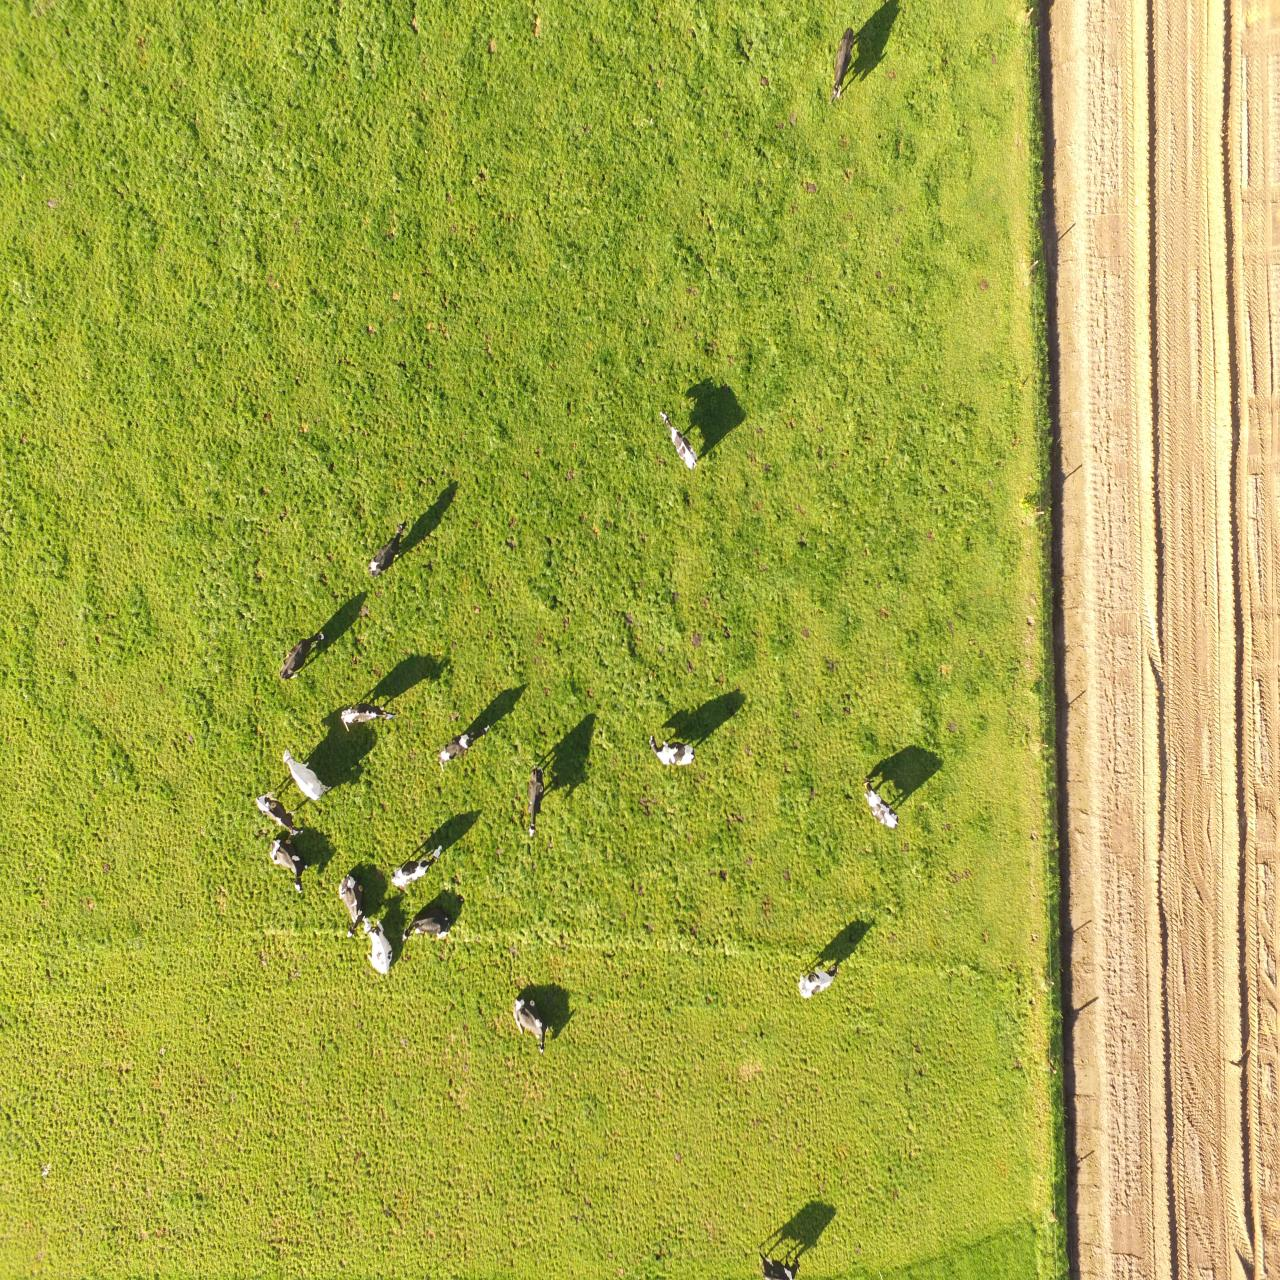cow: (652, 403, 697, 470), (824, 22, 858, 109), (247, 790, 307, 836), (275, 626, 327, 676), (277, 751, 329, 799), (853, 778, 904, 828), (393, 840, 441, 888), (369, 516, 406, 579), (802, 949, 842, 1005), (328, 867, 367, 924), (267, 835, 305, 891), (359, 919, 395, 975), (510, 1001, 551, 1049), (332, 703, 395, 731), (518, 767, 542, 840), (641, 730, 697, 761), (441, 726, 474, 772), (406, 912, 450, 945), (758, 1250, 802, 1279)
